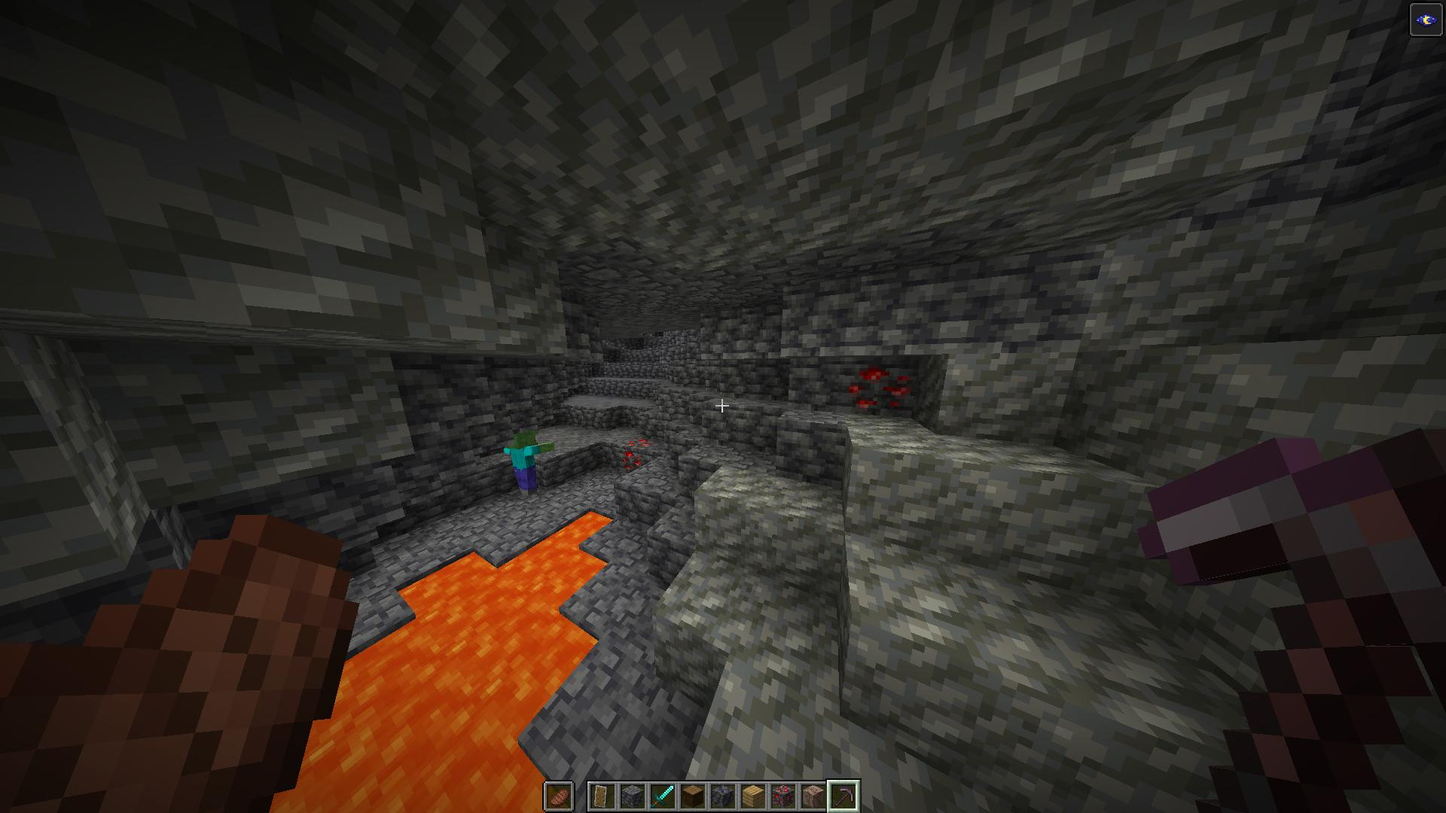redstone ore: (842, 361, 918, 417), (617, 435, 657, 474)
